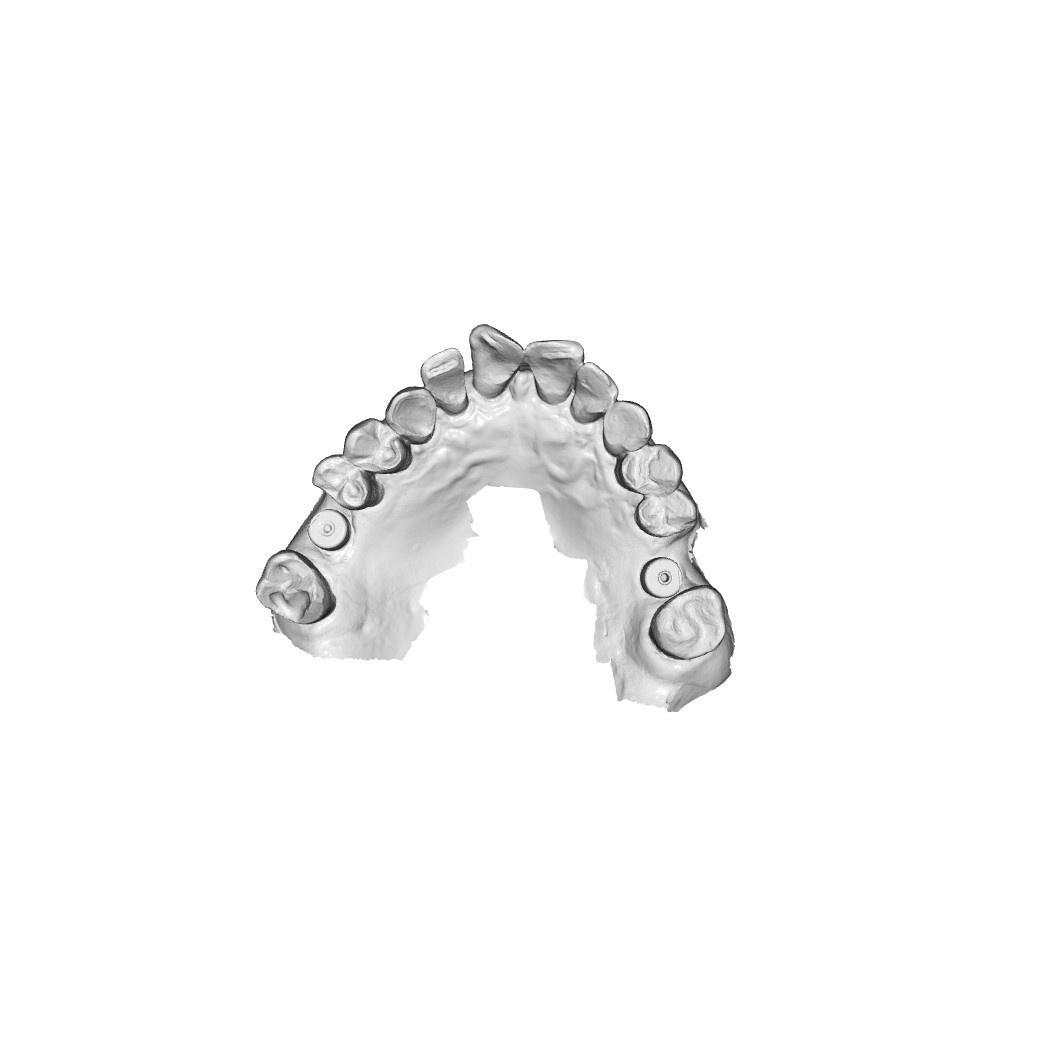canine: (388, 386, 438, 448), (605, 398, 650, 456)
implant: (305, 510, 353, 552), (641, 559, 677, 594)
incisor: (525, 336, 580, 404), (470, 324, 522, 394), (421, 346, 467, 407), (576, 365, 616, 413)
molar: (261, 547, 339, 620), (649, 590, 721, 658)
premolar: (342, 421, 407, 475), (311, 457, 370, 505), (638, 488, 696, 536), (622, 448, 678, 495)
